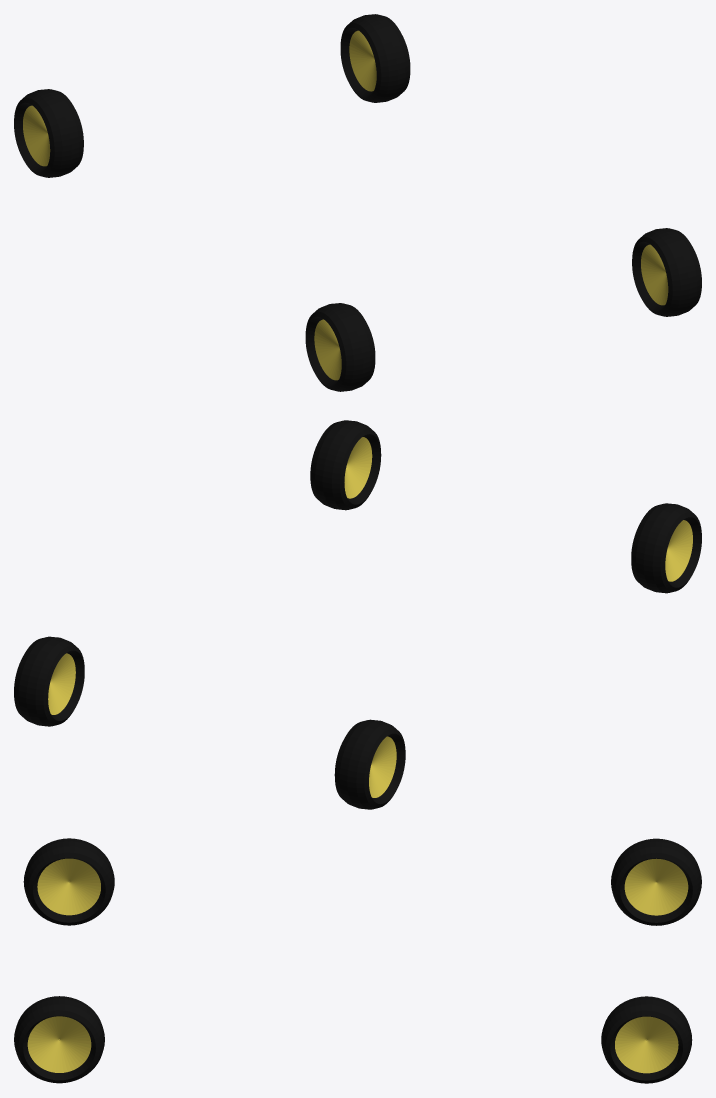
File: wheels.fbx
The picture shows the model from 3 angles, top to bottom: view 1: azimuth 30°, elevation 25°; view 2: azimuth 150°, elevation 25°; view 3: azimuth 270°, elevation 25°; orthographic projection.
Visible parts, largest first — view 1: Torus, Torus.004, Torus.002, Torus.003; view 2: Torus.003, Torus.004, Torus, Torus.002; view 3: Torus, Torus.004, Torus.003, Torus.002.
Boxes of the visible parts, bbox=[...] form: Torus: bbox=[340, 14, 410, 102]; Torus.004: bbox=[305, 303, 375, 391]; Torus.002: bbox=[14, 89, 83, 177]; Torus.003: bbox=[632, 228, 701, 316]; Torus.003: bbox=[310, 420, 381, 510]; Torus.004: bbox=[631, 503, 701, 593]; Torus: bbox=[14, 636, 84, 726]; Torus.002: bbox=[334, 719, 405, 809]; Torus: bbox=[601, 996, 692, 1083]; Torus.004: bbox=[23, 838, 114, 925]; Torus.003: bbox=[14, 996, 104, 1083]; Torus.002: bbox=[611, 838, 701, 925].
Size of the model in its own units: 715 by 155 by 1190.
